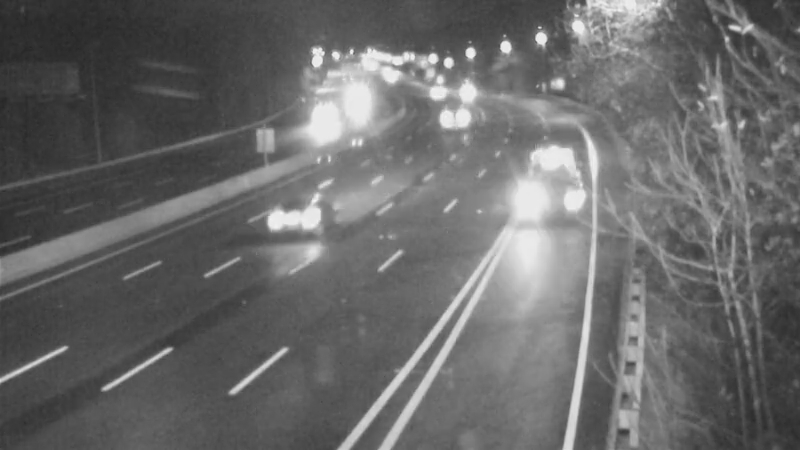vehicle: (518, 146, 598, 226), (233, 183, 313, 263), (438, 65, 488, 115), (407, 62, 457, 112), (435, 91, 485, 141), (304, 97, 354, 147)
